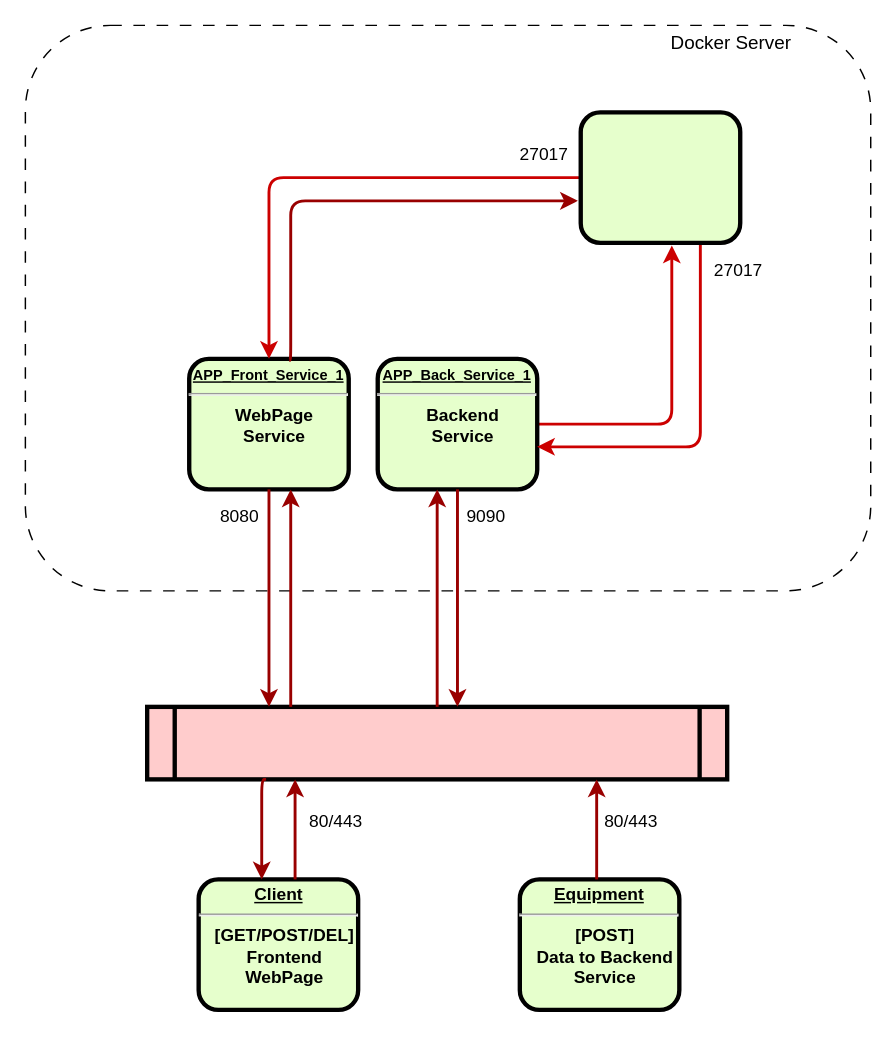
The diagram is 896 pixels wide and 1037 high, and some of its shapes have lost their labels. The shapes that lost their labels are listed below. From the top down, each one's centre as x and y in pixels, then its label:
At (x=660, y=176): "mongodb Database".
At (x=436, y=742): "NGINX PROXY".
